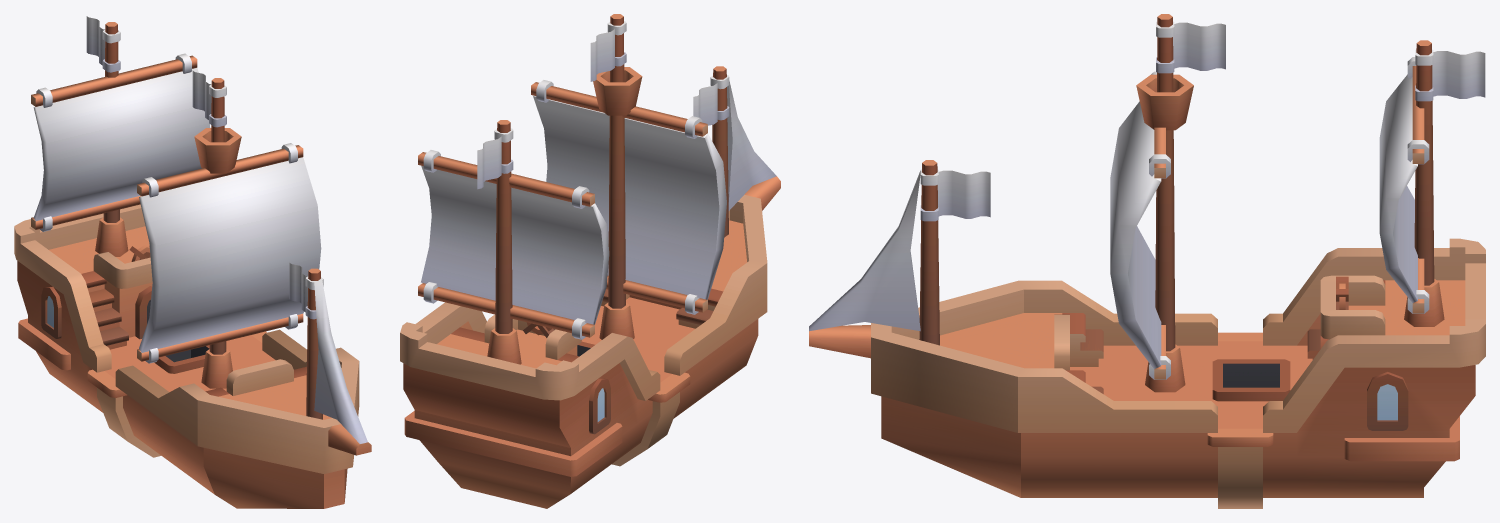
The model's file is k-watercraft-ship-large.glb.
3 renders of one model, left to right at view 1: azimuth 30°, elevation 25°; view 2: azimuth 150°, elevation 25°; view 3: azimuth 270°, elevation 25°, orthographic. The views are drawn at different scales.
Visible parts, largest first — view 1: ship-large, sail-a, sail-b, flag-b, flag-c, flag-a; view 2: ship-large, sail-a, sail-b, flag-b, flag-c, flag-a; view 3: ship-large, sail-a, sail-b, flag-c, flag-a, flag-b.
Boxes of the visible parts, x1,y1,x2,y2 form: ship-large: (14, 22, 371, 508); sail-a: (137, 143, 321, 363); sail-b: (31, 53, 210, 231); flag-b: (192, 70, 226, 127); flag-c: (86, 16, 120, 72); flag-a: (289, 262, 323, 319); ship-large: (400, 14, 780, 508); sail-a: (531, 80, 726, 314); sail-b: (418, 150, 609, 339); flag-b: (590, 21, 626, 81); flag-c: (477, 128, 513, 189); flag-a: (693, 75, 729, 125); ship-large: (809, 14, 1485, 508); sail-a: (1110, 71, 1170, 379); sail-b: (1379, 57, 1429, 313); flag-c: (1415, 49, 1485, 101); flag-a: (920, 169, 990, 221); flag-b: (1156, 21, 1225, 73).
Size of the model in its own units: 4.8 by 9.96 by 13.1.
1 material, 1 textured.
